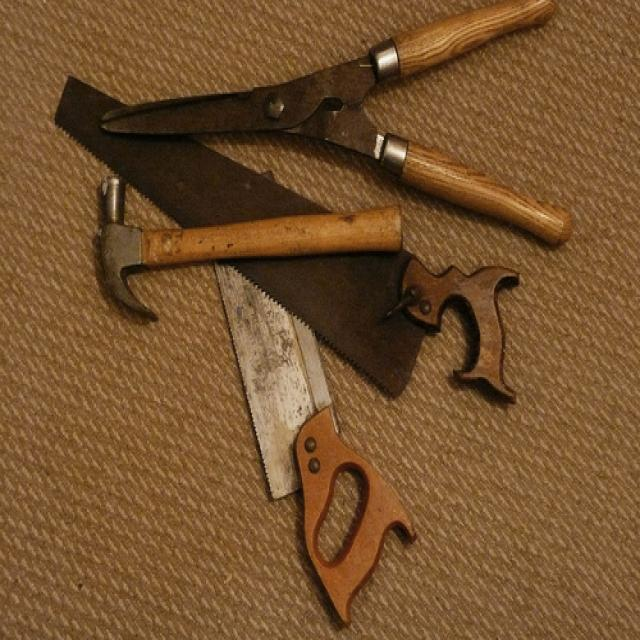hammer: (86, 167, 404, 331)
